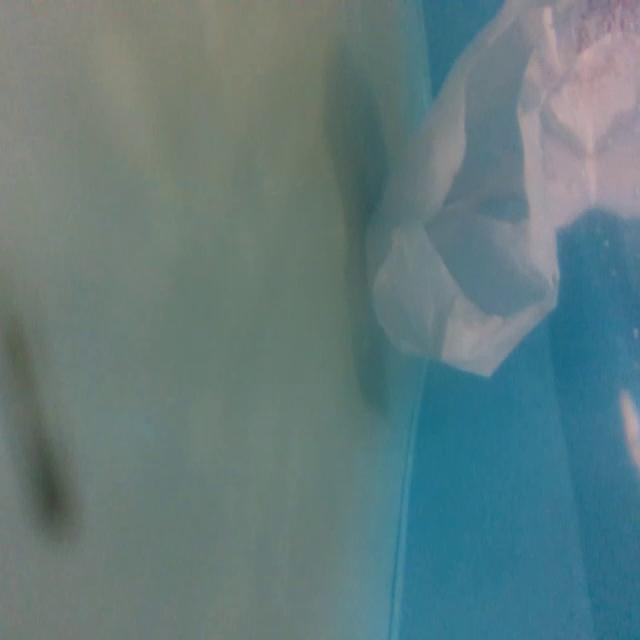plastic bags: (358, 1, 640, 387)
